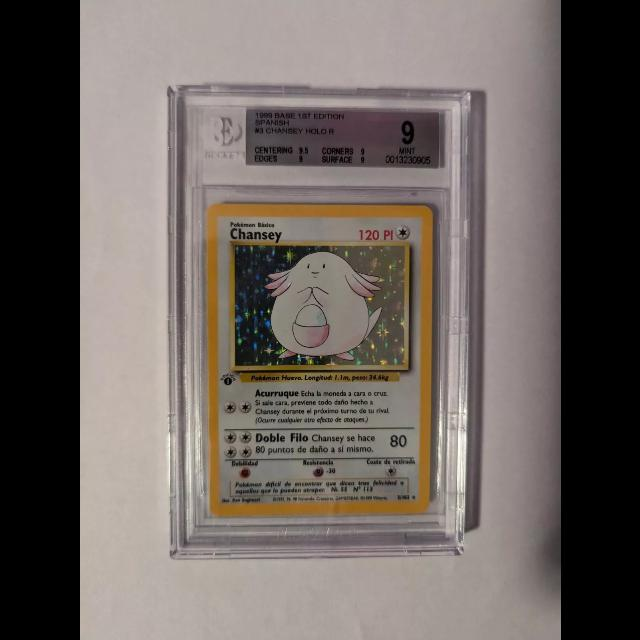bgs_label: (244, 108, 440, 169)
bgs_slab: (166, 83, 472, 561)
card: (204, 203, 433, 517)
